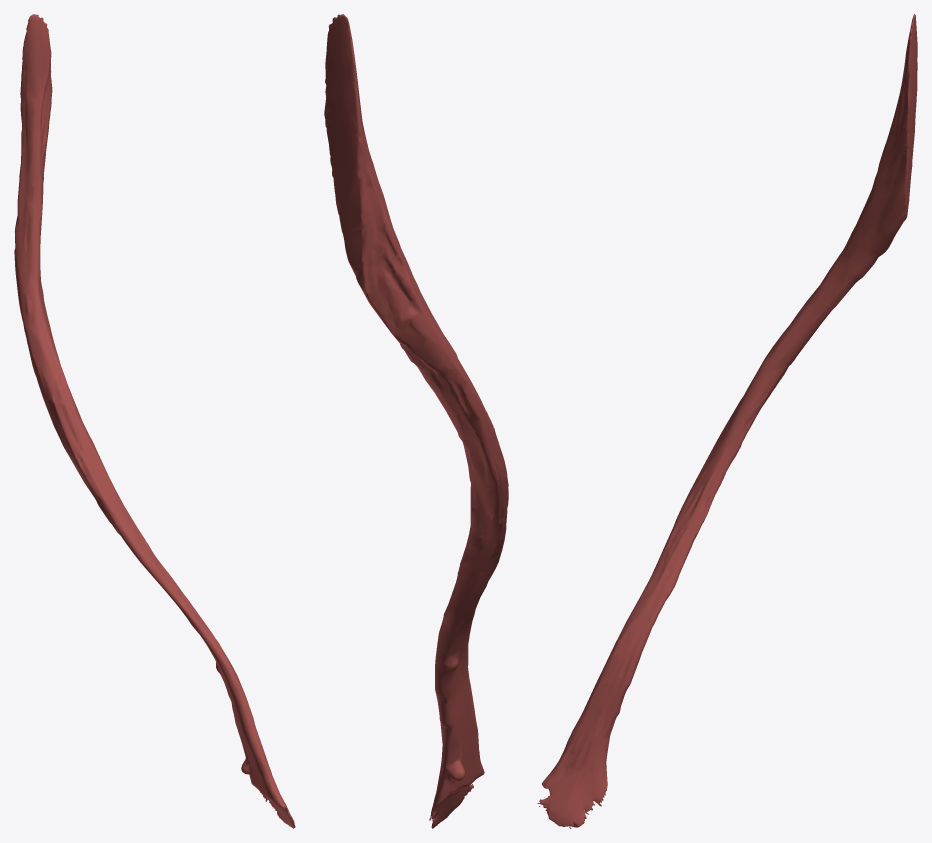
Rendered from FMA22551.glb.
3 views of the same model, side by side, from view 1: azimuth 30°, elevation 25°; view 2: azimuth 150°, elevation 25°; view 3: azimuth 270°, elevation 25° (orthographic). The views are drawn at different scales.
Parts seen in each view (by area): view 1: FMA22551; view 2: FMA22551; view 3: FMA22551.
Boxes of the visible parts, box(x1,y1,x2,y2) form: FMA22551: box(14, 14, 295, 828); FMA22551: box(324, 14, 508, 828); FMA22551: box(537, 14, 917, 828).
Bounding box in the file's own units: 0.0248 × 0.1188 × 0.0535.
